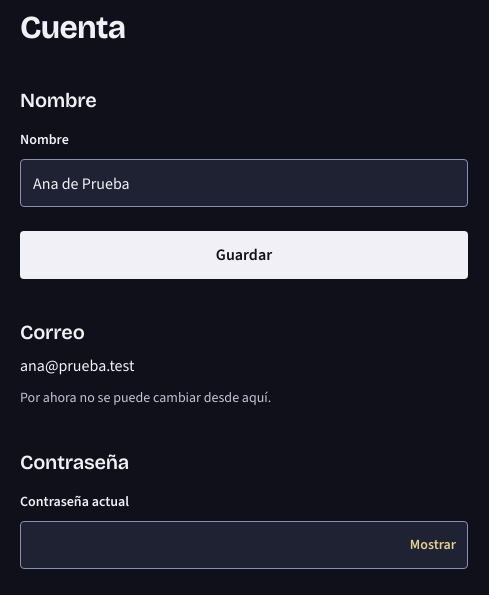
la pantalla de la cuenta (PA-25) › después de guardar, un envío que el navegador detiene deja de decir «Guardado»
Step 1. Replace the text in the field labelled "Nombre" with "Beatriz" → (244, 183), box [20, 159, 468, 207]
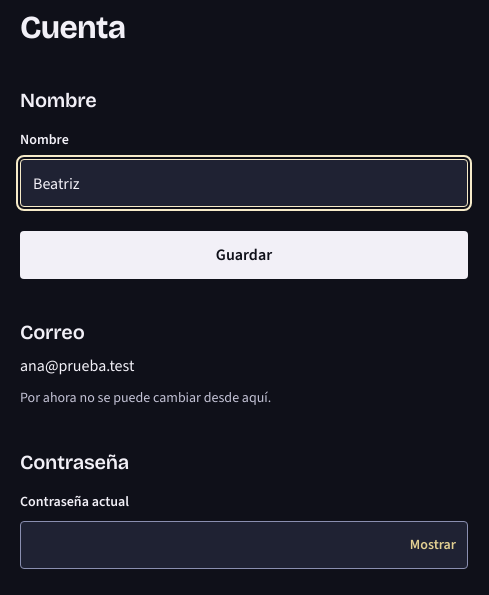
Step 2. Click the button "Guardar" → click(244, 255), box [20, 231, 468, 279]
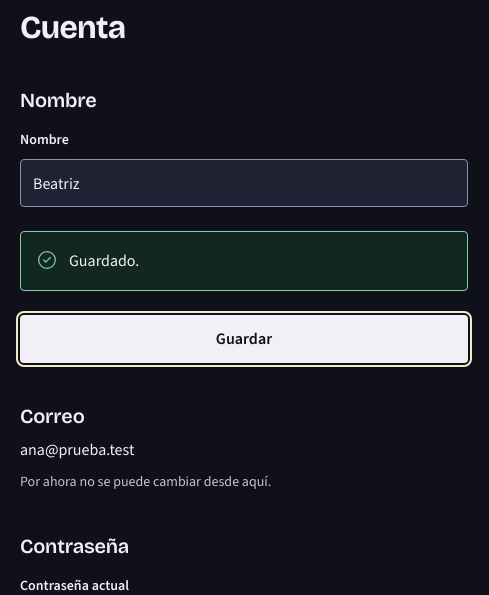
Now the text "Guardado." is shown, box [69, 248, 139, 274]
Step 3. Clear the field labelled "Nombre" → (244, 183), box [20, 159, 468, 207]
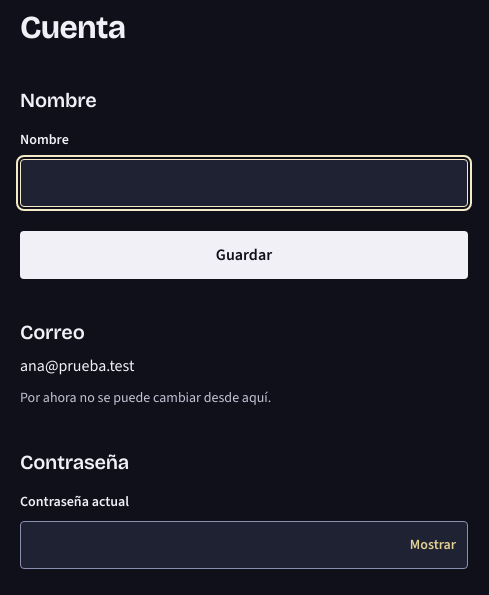
Step 4. Click the button "Guardar" → click(244, 255), box [20, 231, 468, 279]
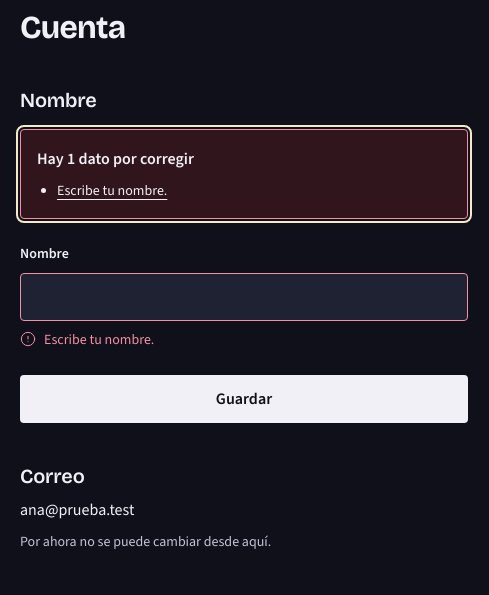
Expected: the text "Guardado." is not shown
Now the message shows "Escribe tu nombre.", box [57, 181, 167, 200]
